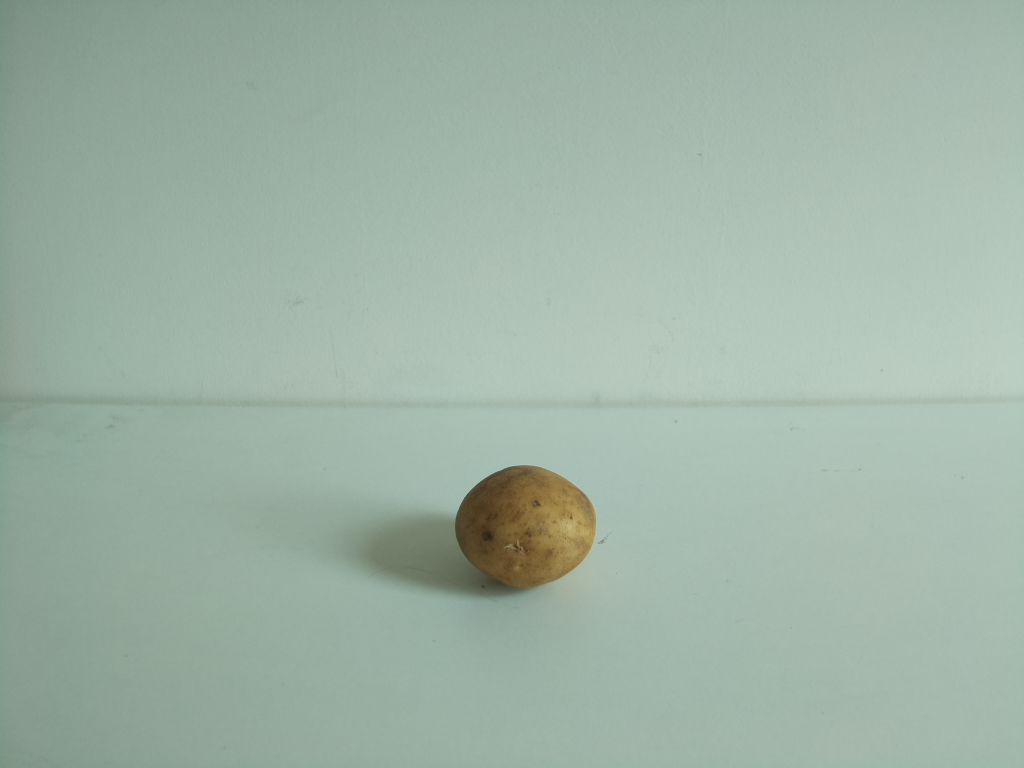potatoes: (449, 463, 598, 594)
